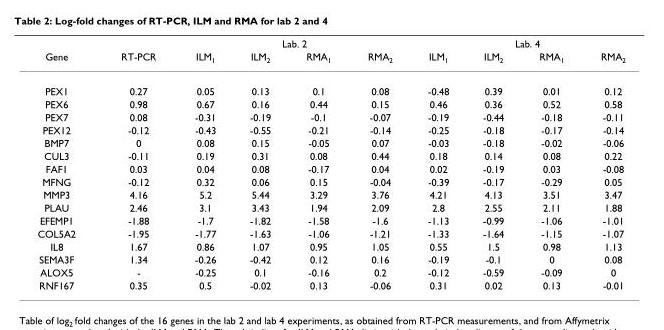table: (36, 37, 624, 290)
table column: (97, 37, 174, 290), (36, 37, 97, 290), (287, 37, 348, 290), (348, 37, 409, 290), (520, 37, 581, 290), (174, 37, 232, 290), (409, 37, 465, 290), (232, 37, 287, 290), (465, 37, 520, 290), (581, 37, 624, 290)
table column header: (36, 37, 624, 74)
table row: (36, 49, 624, 74), (36, 74, 624, 97), (36, 97, 624, 110), (36, 110, 624, 123), (36, 123, 624, 136), (36, 136, 624, 149), (36, 161, 624, 174), (36, 174, 624, 187), (36, 187, 624, 200), (36, 200, 624, 213), (36, 213, 624, 226), (36, 226, 624, 239), (36, 239, 624, 252), (36, 252, 624, 265), (36, 265, 624, 278), (36, 37, 624, 49), (36, 149, 624, 161), (36, 278, 624, 290)
table spanning cell: (97, 37, 174, 74), (174, 37, 409, 49), (409, 37, 624, 49), (36, 37, 97, 74)
